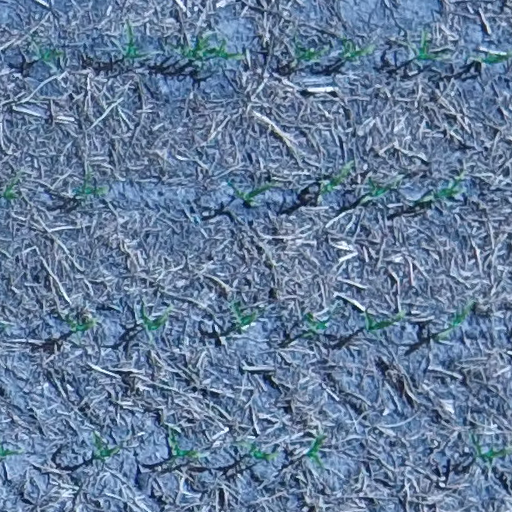planta: (167, 31, 248, 63), (434, 299, 477, 344), (411, 172, 466, 205), (164, 425, 208, 462), (316, 158, 356, 198), (118, 22, 150, 65), (409, 26, 444, 65), (70, 168, 110, 201), (336, 32, 377, 64), (226, 297, 260, 334), (232, 179, 275, 208), (290, 35, 331, 65), (89, 429, 122, 465), (234, 438, 281, 463), (136, 304, 173, 334), (360, 176, 400, 203), (62, 314, 99, 341), (360, 310, 397, 337), (303, 430, 327, 471), (31, 42, 66, 70), (299, 310, 331, 340)
